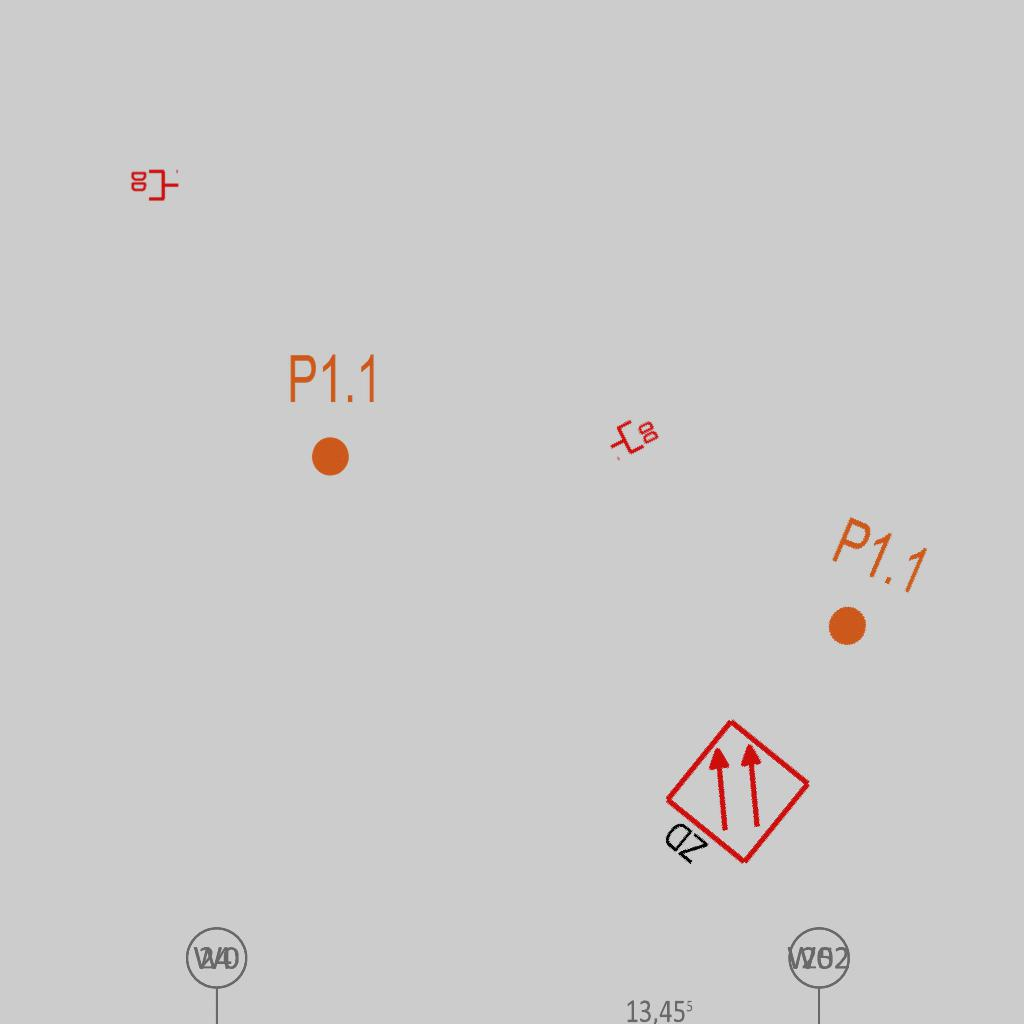Datenanschluss_zweifach: (601, 408, 663, 463), (129, 169, 180, 203)
Downlight_LED_Einbauleuchten_Flur: (798, 511, 935, 667), (287, 351, 380, 479)
ZD_Melder_in_Zwischendecke_mit_Revisionsoeffnung_mind_40_x_40_cm: (635, 713, 819, 902)
